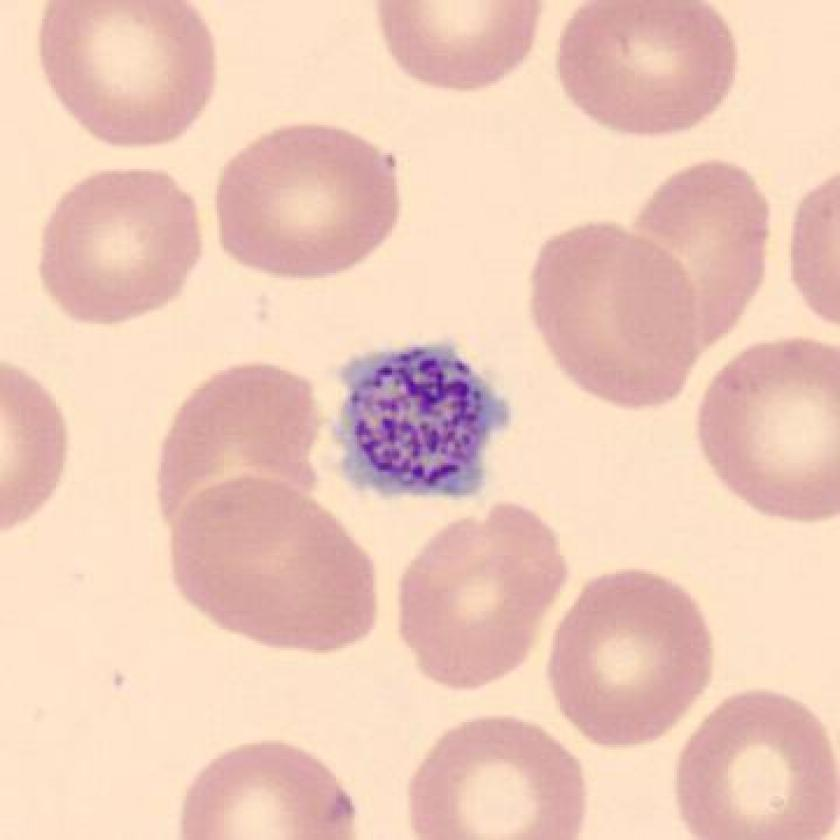platelets: (330, 332, 519, 512)
